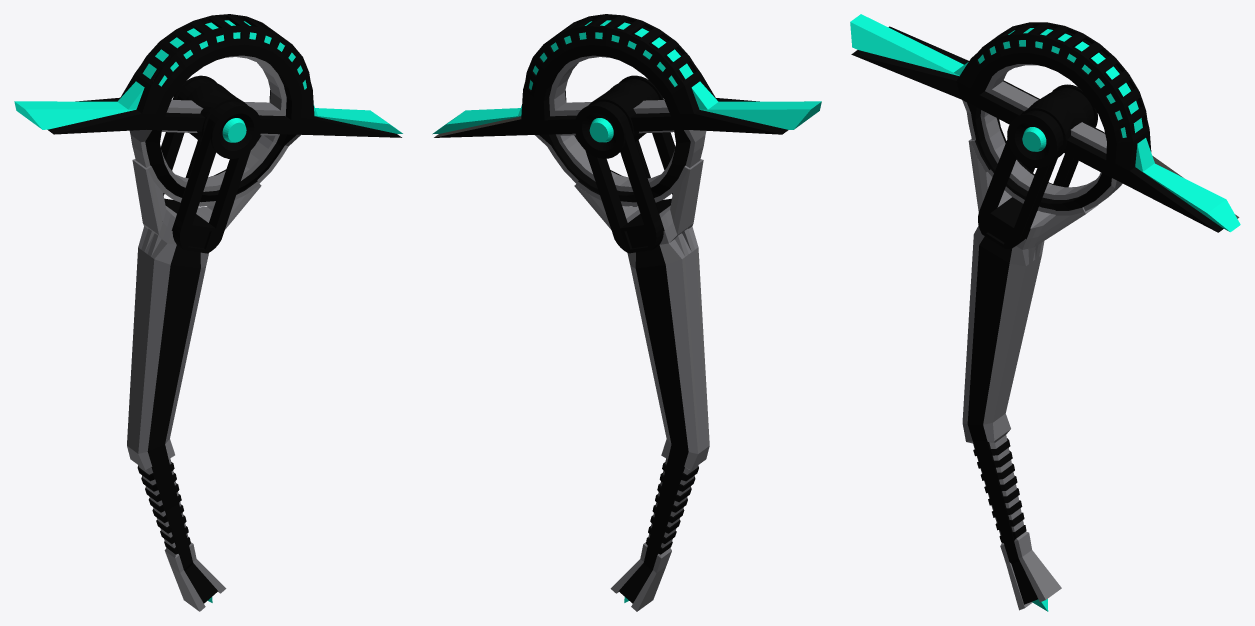
The model's file is pickaxe 4 Fagerone.fbx.
3 renders of one model, left to right at view 1: azimuth 30°, elevation 25°; view 2: azimuth 150°, elevation 25°; view 3: azimuth 330°, elevation 25°, orthographic.
Visible parts, largest first — view 1: Cylinder.001; view 2: Cylinder.001; view 3: Cylinder.001.
Part boxes in pixels (<box>): Cylinder.001: <box>14,14,402,611</box>; Cylinder.001: <box>432,14,821,611</box>; Cylinder.001: <box>850,14,1240,611</box>.
Size of the model in its own units: 3.07 by 4.49 by 0.5875.
Materials: 2 (2 with a texture image).
